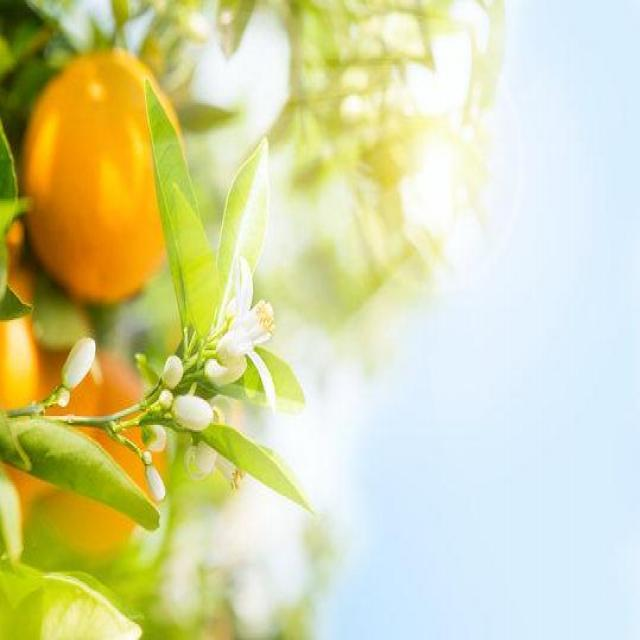Bunga: (221, 268, 281, 406), (186, 428, 246, 492), (60, 334, 96, 391), (170, 392, 215, 430), (142, 462, 168, 505), (140, 425, 168, 453), (163, 356, 184, 392), (56, 388, 72, 408), (159, 391, 172, 411), (140, 450, 153, 468)
Jeruk Sudah Matang: (20, 46, 182, 302)
